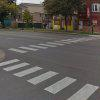Crosswalk: (12, 36, 100, 100)
